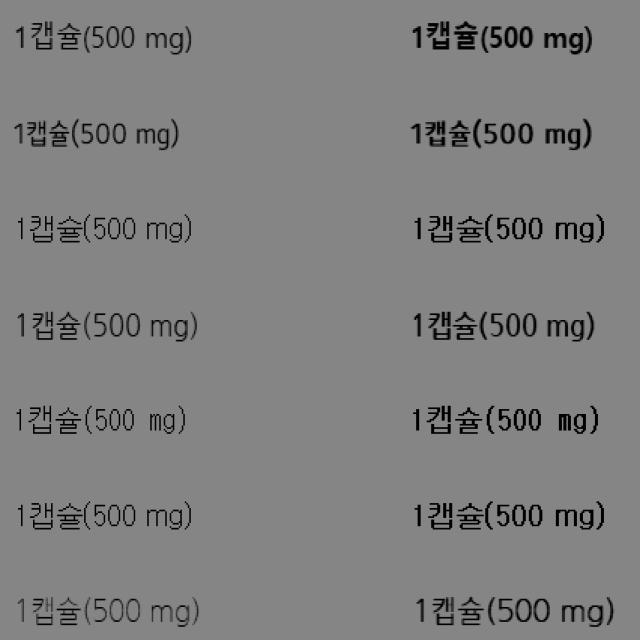bold: (408, 16, 594, 58), (411, 209, 608, 248), (414, 495, 606, 535), (417, 592, 617, 628), (407, 400, 602, 436), (408, 308, 596, 345), (408, 116, 594, 152)
normal: (16, 304, 199, 350), (15, 491, 195, 536), (8, 110, 183, 156), (15, 590, 202, 633), (14, 15, 195, 58), (6, 399, 190, 440), (15, 209, 194, 249)
